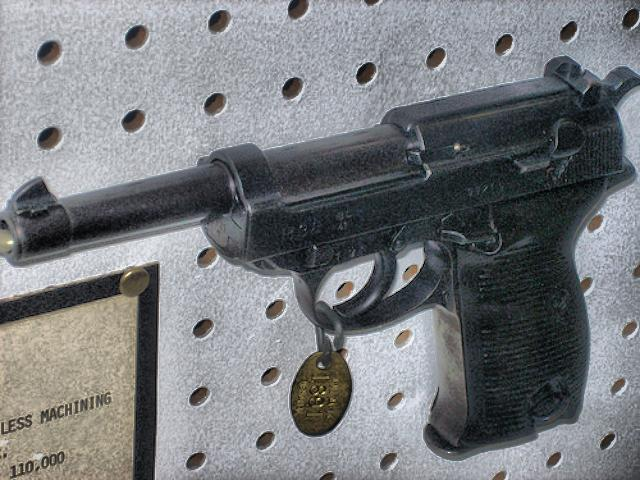pistol: (0, 51, 638, 456)
